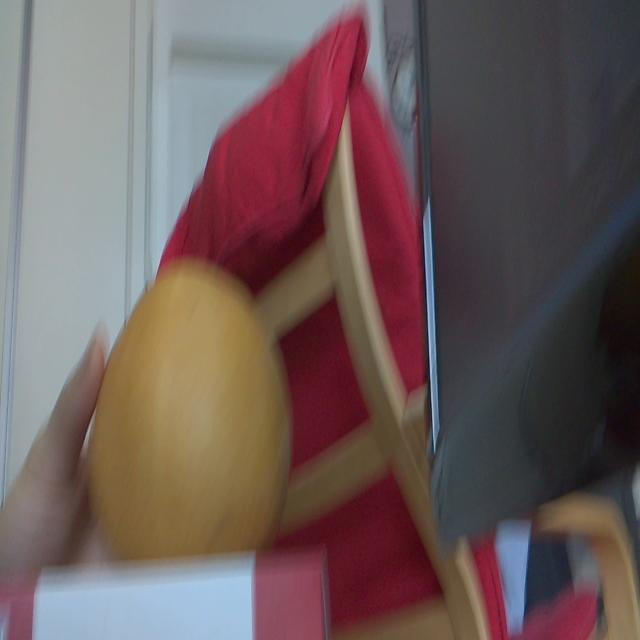pear: (86, 263, 291, 556)
